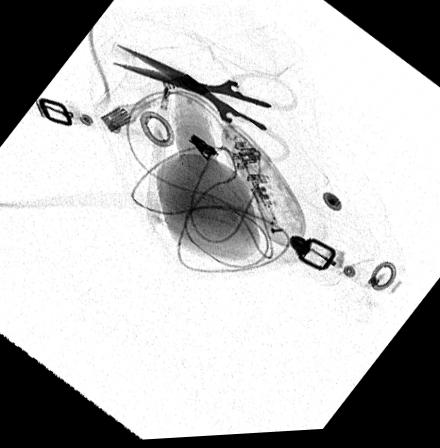Scissors: (106, 39, 304, 170)
